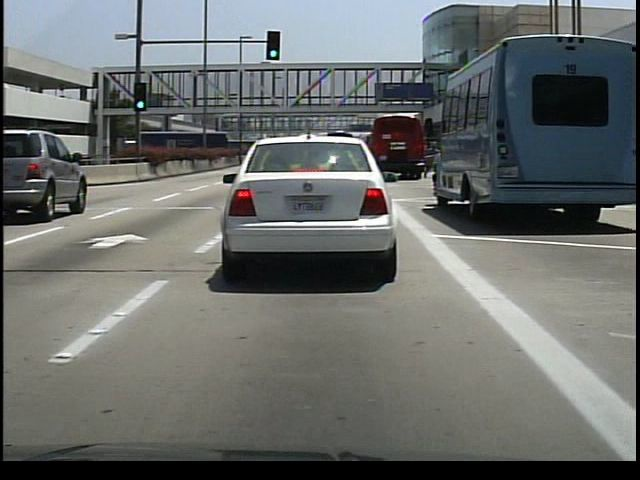person: (426, 137, 438, 177)
